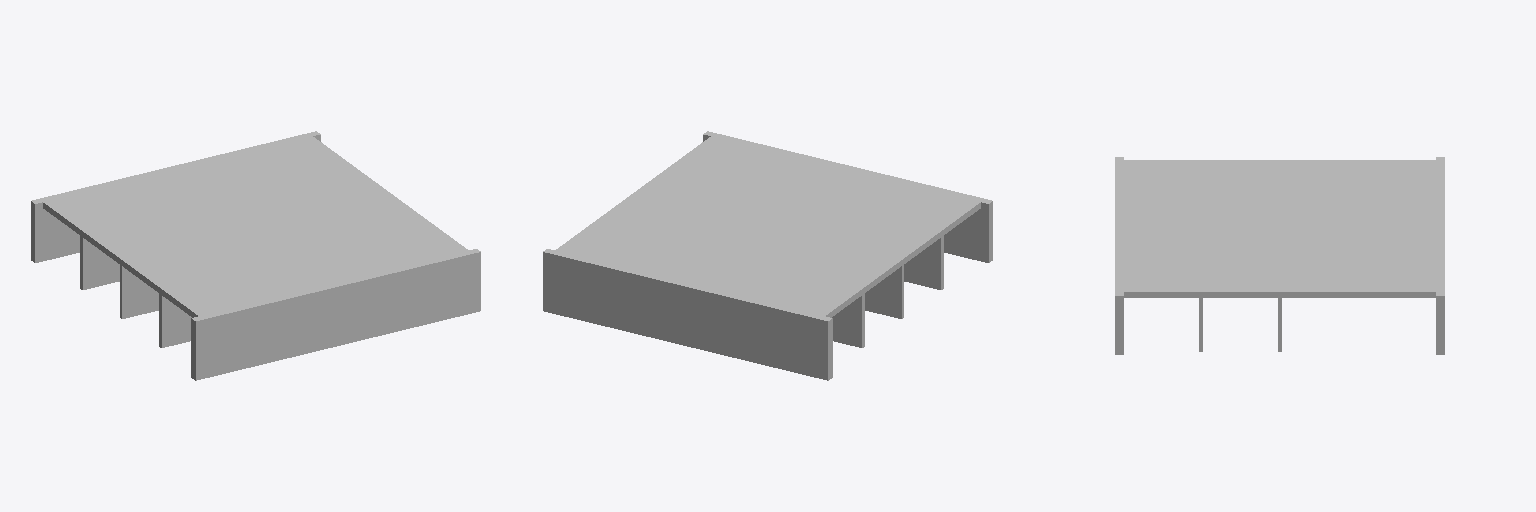
The model's file is bookcase_1.obj.
3 renders of one model, left to right at view 1: azimuth 30°, elevation 25°; view 2: azimuth 150°, elevation 25°; view 3: azimuth 270°, elevation 25°, orthographic.
Visible parts, largest first — view 1: obj2, obj19, obj30, obj15, obj33, obj25, obj20, obj10, obj3; view 2: obj2, obj29, obj24, obj18, obj11, obj20, obj25, obj32, obj3; view 3: obj2, obj5, obj20, obj25, obj22, obj27.
Boxes of the visible parts, <box> form: obj2: <box>43,136,468,315</box>; obj19: <box>196,252,480,380</box>; obj30: <box>35,135,320,262</box>; obj15: <box>122,266,158,318</box>; obj33: <box>83,238,119,289</box>; obj25: <box>32,131,320,203</box>; obj20: <box>192,249,480,320</box>; obj10: <box>162,296,191,347</box>; obj3: <box>43,203,197,317</box>; obj2: <box>555,136,980,315</box>; obj29: <box>543,252,827,380</box>; obj24: <box>703,135,988,262</box>; obj18: <box>865,266,901,318</box>; obj11: <box>904,238,940,289</box>; obj20: <box>703,131,991,203</box>; obj25: <box>543,249,831,320</box>; obj32: <box>832,296,861,347</box>; obj3: <box>826,203,980,317</box>; obj2: <box>1124,160,1435,291</box>; obj5: <box>1124,292,1435,297</box>; obj20: <box>1115,157,1123,295</box>; obj25: <box>1436,157,1444,295</box>; obj22: <box>1115,296,1123,354</box>; obj27: <box>1436,296,1444,354</box>.
Size of the model in its own units: 57.48 by 11.42 by 57.48.